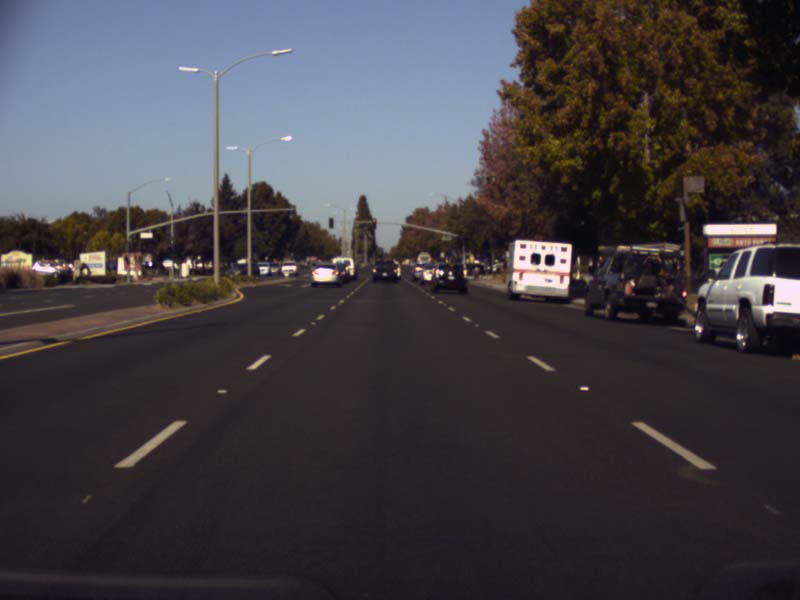Red: (167, 243, 171, 251), (372, 217, 375, 227)
